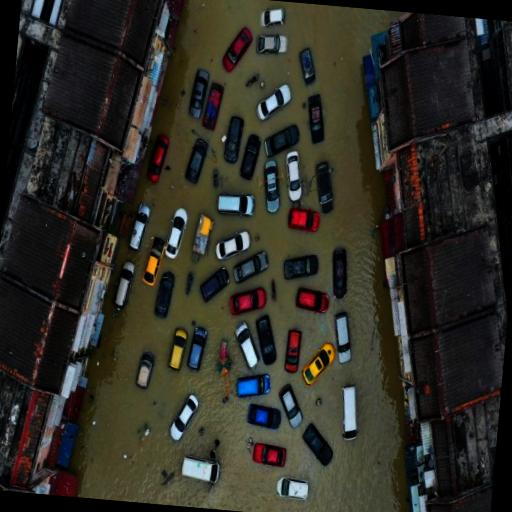flood: (71, 0, 409, 512)
house: (0, 0, 185, 503), (340, 10, 512, 512), (28, 464, 86, 498), (180, 454, 218, 484), (247, 403, 271, 424)
